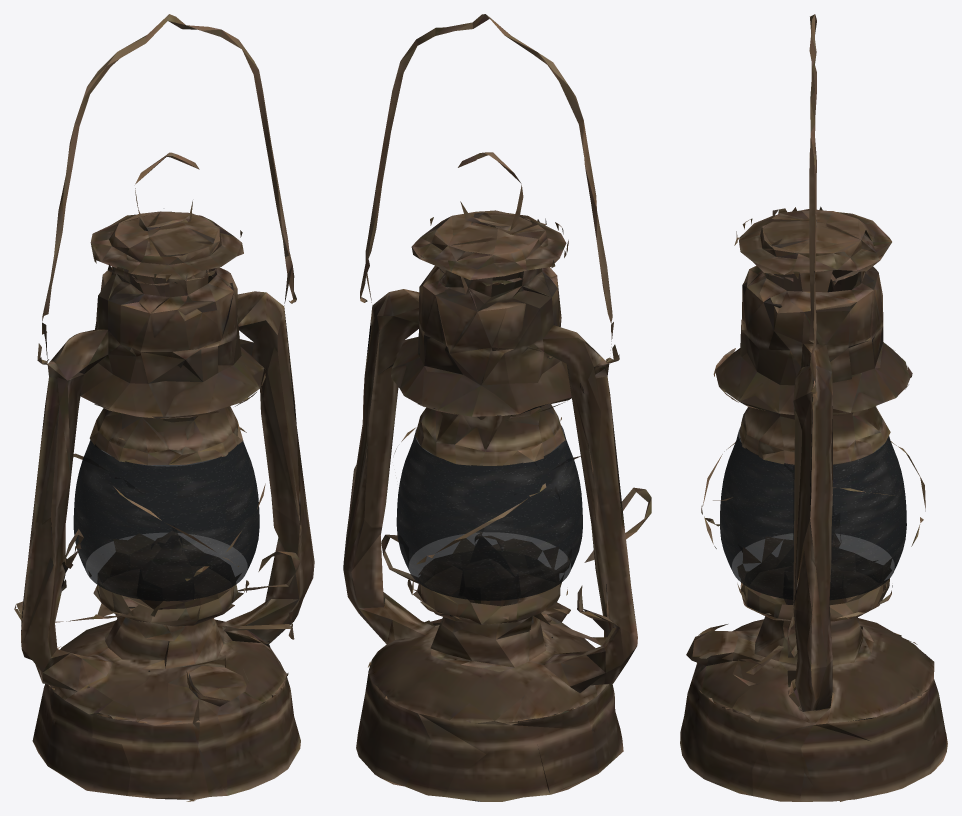
File: hurricane-lantern_final.glb
The picture shows the model from 3 angles, left to right: view 1: azimuth 30°, elevation 25°; view 2: azimuth 150°, elevation 25°; view 3: azimuth 270°, elevation 25°; orthographic projection.
Parts seen in each view (by area): view 1: SM_HurricaneLantern; view 2: SM_HurricaneLantern; view 3: SM_HurricaneLantern.
Part boxes in pixels (x1,y1,x2,y2): SM_HurricaneLantern: [14, 14, 314, 801]; SM_HurricaneLantern: [343, 14, 651, 801]; SM_HurricaneLantern: [680, 14, 947, 801].
Size of the model in its own units: 0.1261 by 0.2997 by 0.099.
Materials: 2 (2 with a texture image).
